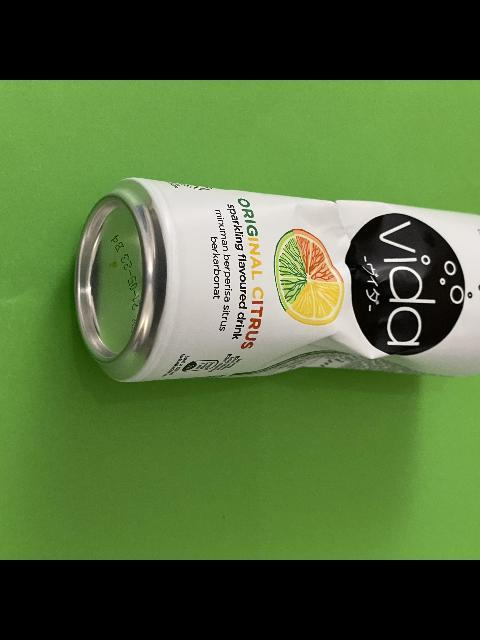drinkcan: (68, 173, 480, 386)
